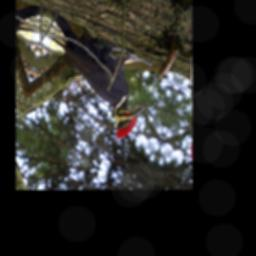Woodpecker: (25, 7, 162, 149)
